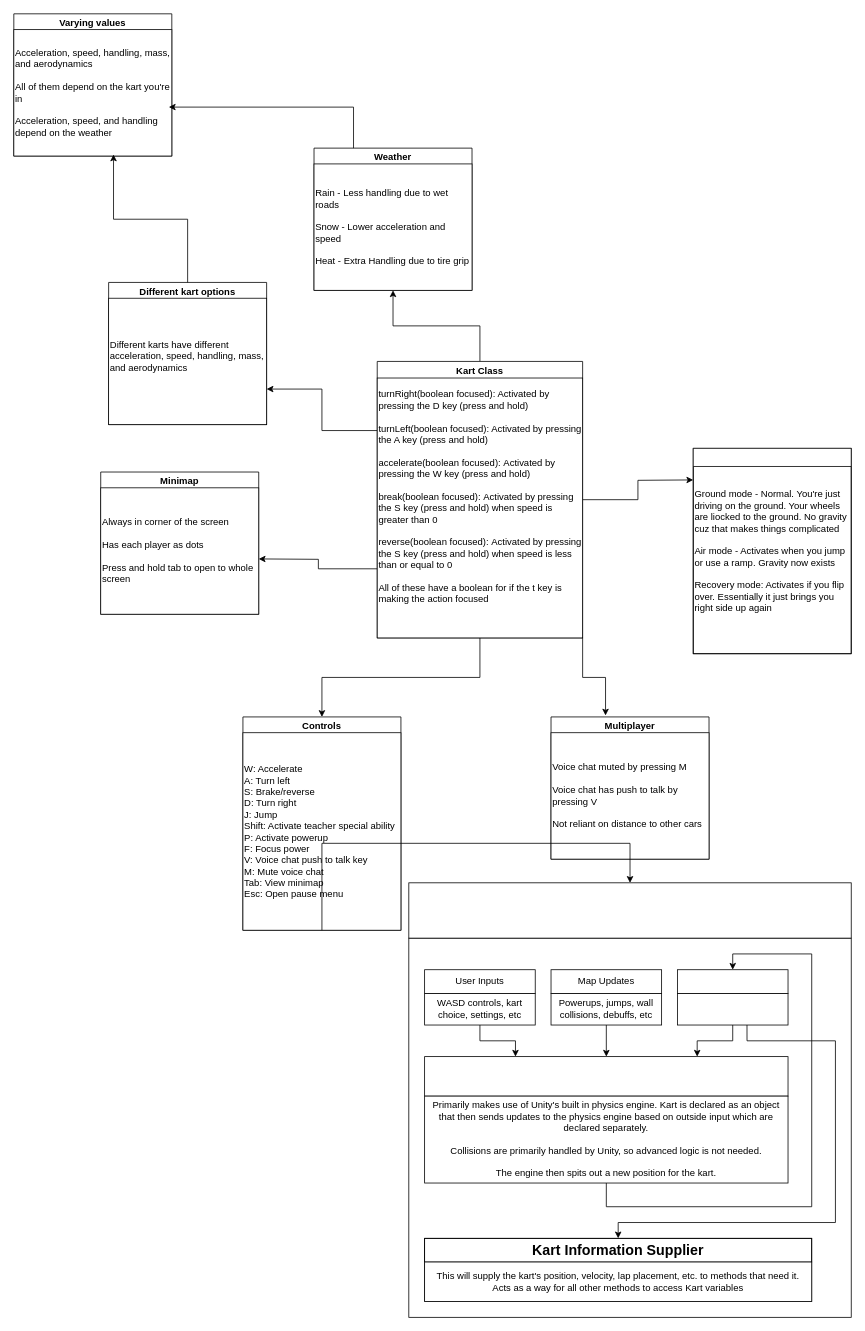
The diagram is 865 pixels wide and 1331 high, and some of its shapes have lost their labels. Here are the shapes that lost their labels. From the top down, the centre of each, then its label:
the point at 771,551: Different Modes
the point at 629,910: Kart Physics and Controls
the point at 732,981: Kart Positioning
the point at 732,1009: Position, rotation, velocity of current kart
the point at 606,1076: Kart Physics Engine
